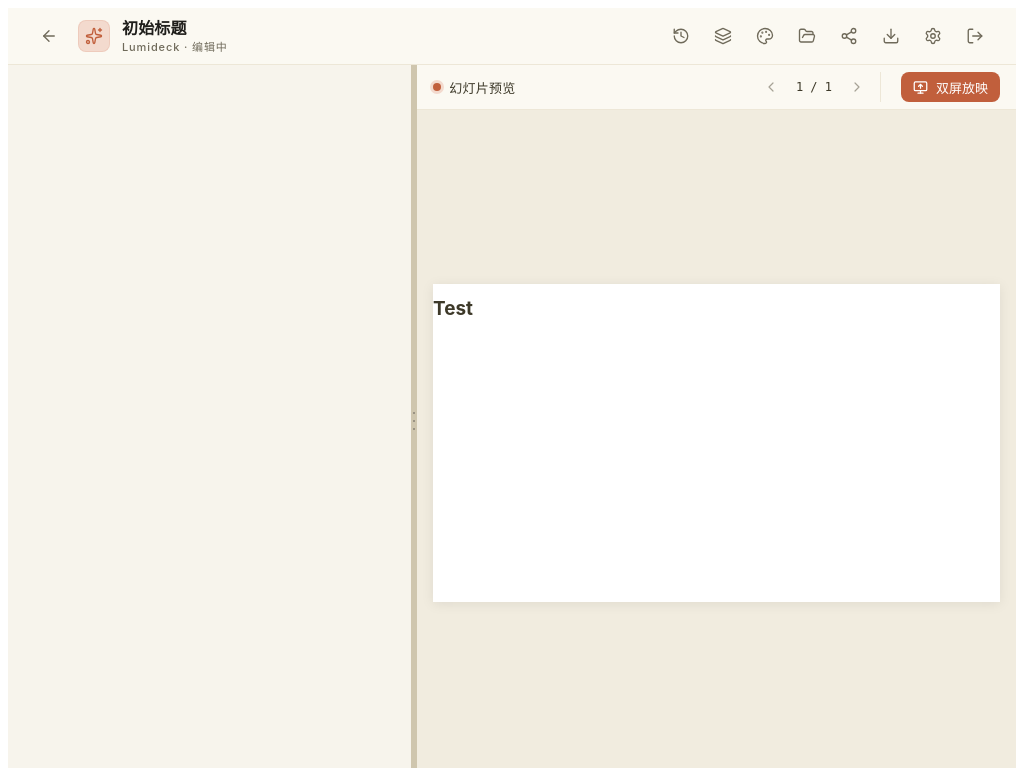
Test: DeckEditorCanvas · title inline 编辑 › Enter 保存 → PUT /api/decks/42 → displayTitle 更新
This screenshot has width=1024, height=768.
Step 1. Double-click the text with class "deck-title" → point(154, 28), box [122,20,187,37]
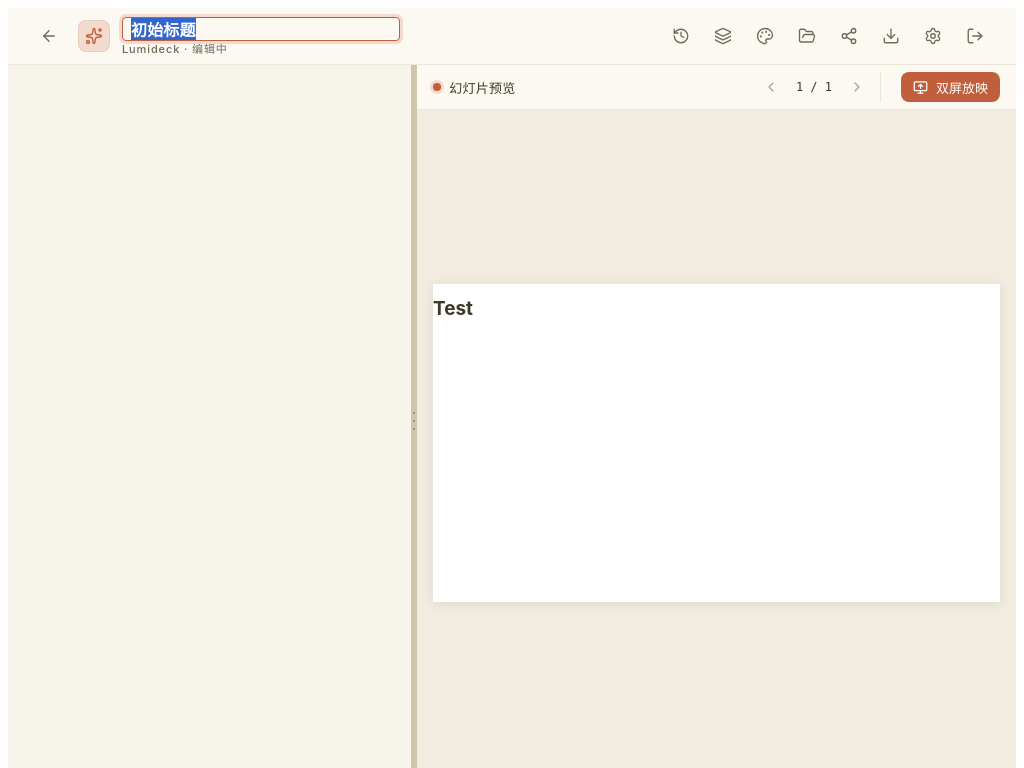
Step 2. Replace the text in the field with class "deck-title-input" with "新标题" → point(261, 29), box [122,17,400,41]
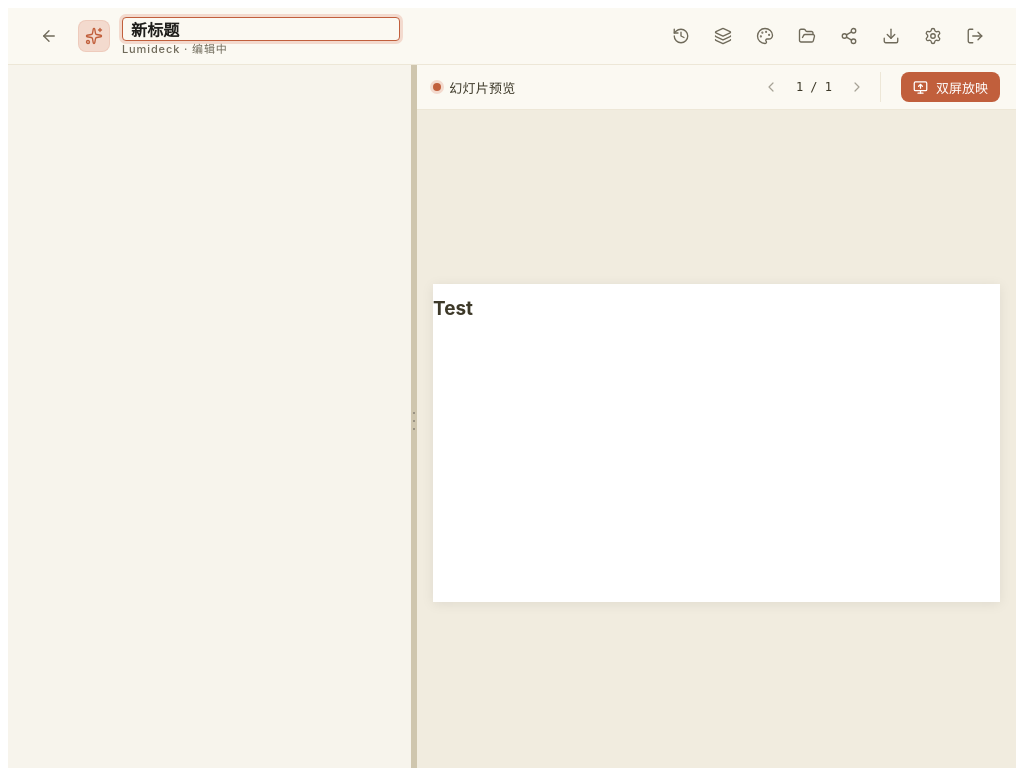
Step 3. Press Enter in the field with class "deck-title-input", box [122,17,400,41]
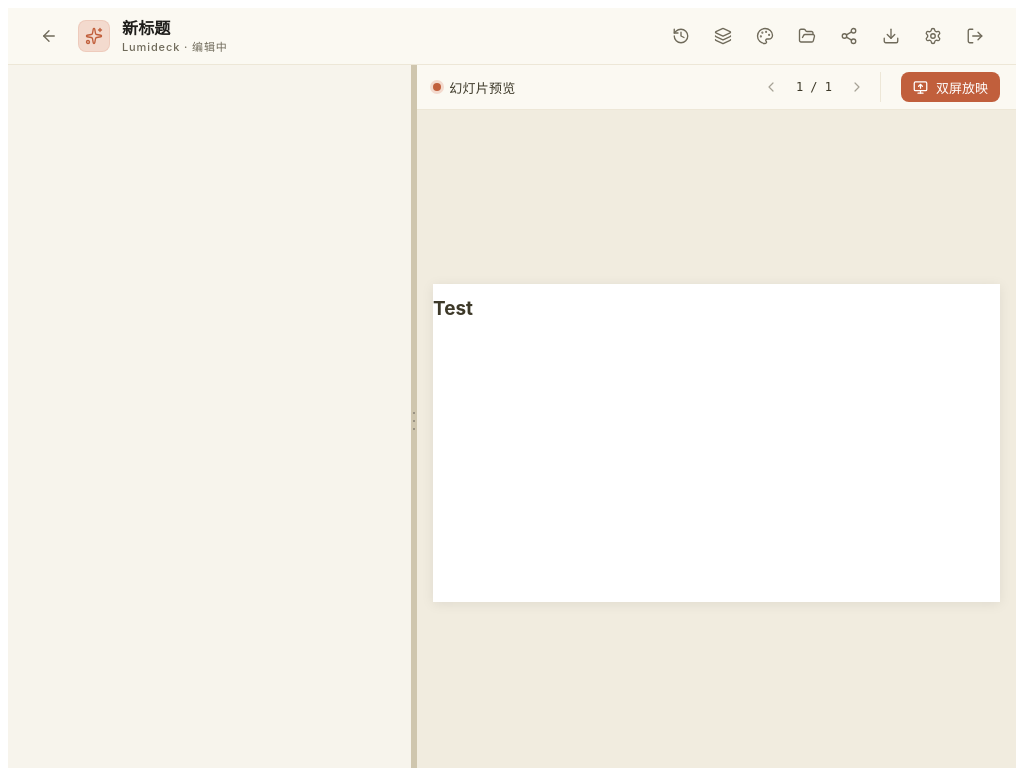
Expected: the text "新标题" is shown, [122,20,170,37]
